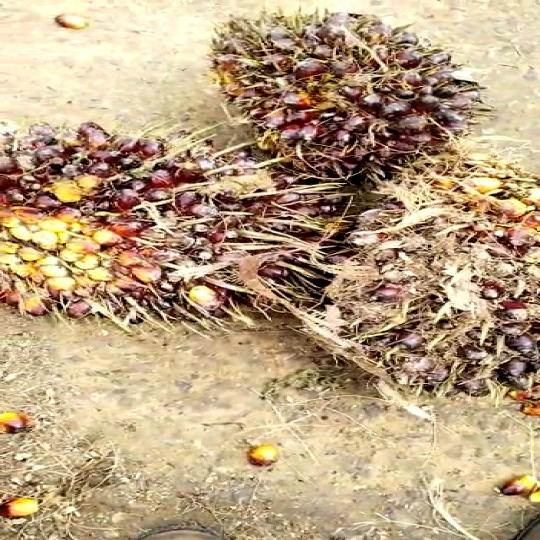kurang masak: (0, 115, 313, 362), (304, 153, 540, 412), (197, 0, 498, 170)
